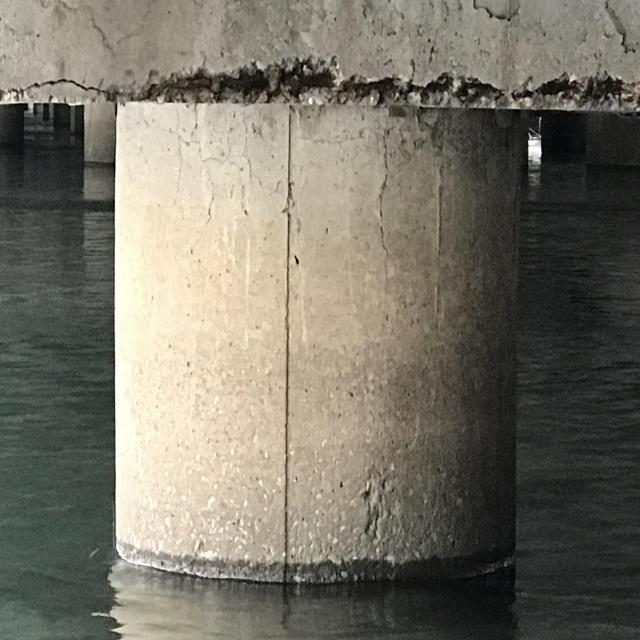Rebar: (138, 49, 636, 106)
concrete spalling: (466, 0, 532, 28)
diagonal crack: (37, 0, 114, 52), (602, 0, 640, 56)
horizontal crack: (12, 70, 117, 96)
multi-branched crack: (118, 106, 280, 229)
vertical crack: (369, 134, 394, 257)
